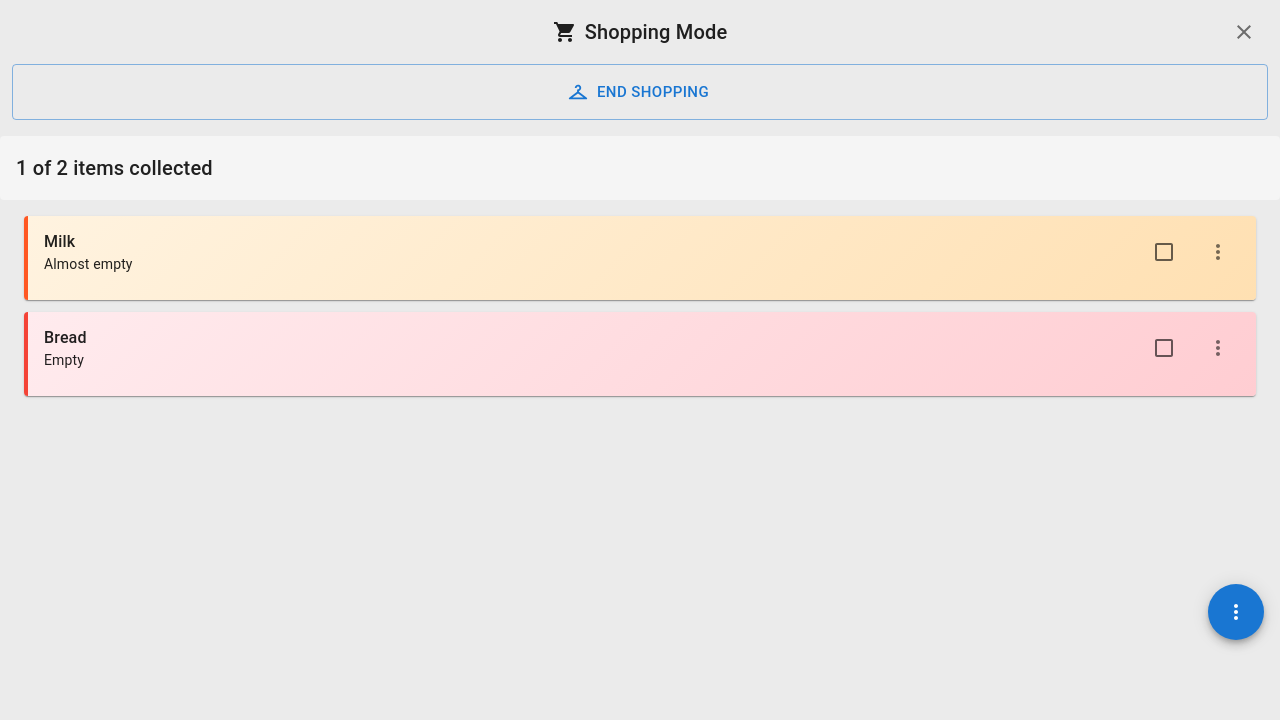
Scenario: ShoppingList › User-Initiated Shopping Completion (Story 9.2) › should open completion dialog when ✕ exit button is clicked
Click the button named "exit shopping mode": (1244, 32) [1224,12,1264,52]
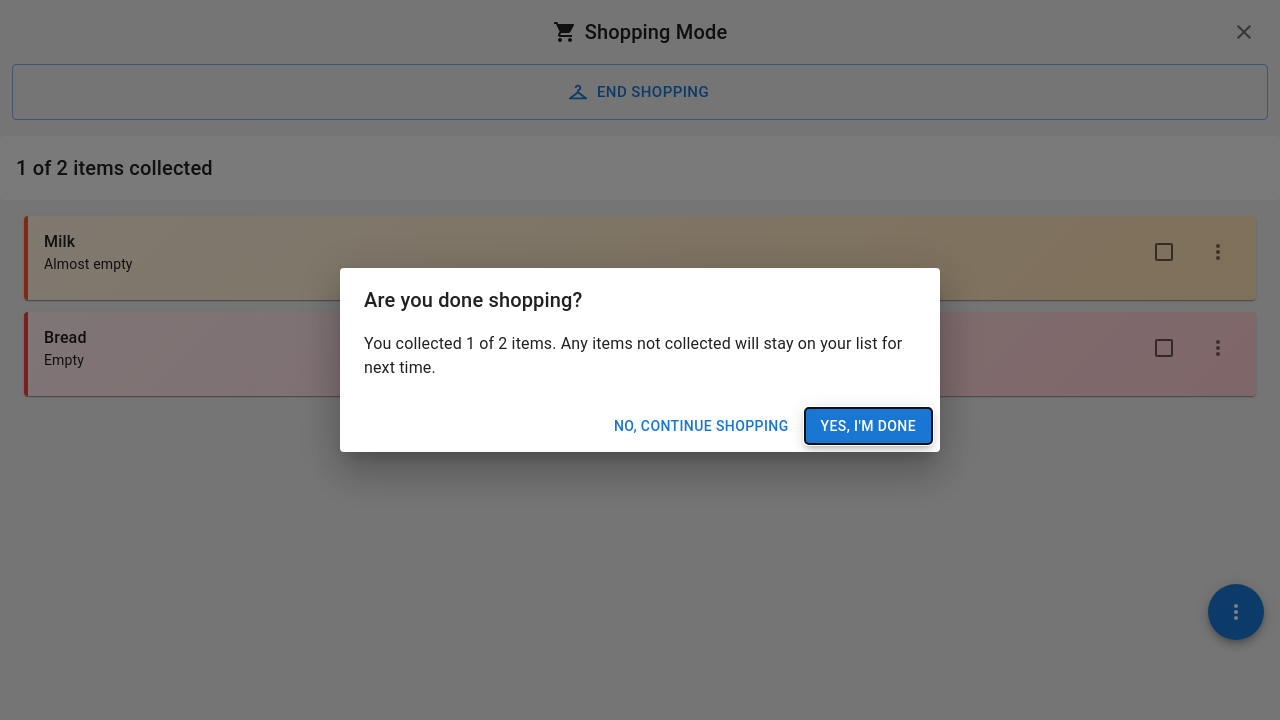
Check: the dialog is shown, box [340,268,940,452]
Check: the heading "Are you done shopping?" is shown, box [364,288,582,312]
